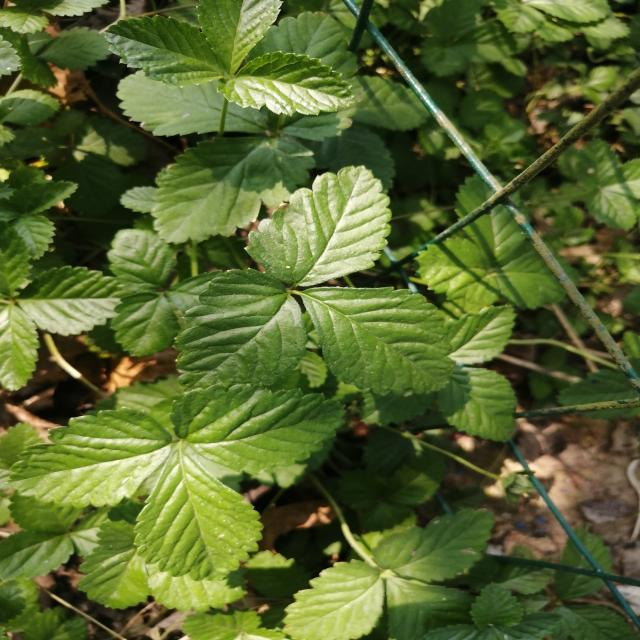Mock_strawberry: (126, 167, 476, 430), (0, 384, 366, 596)
